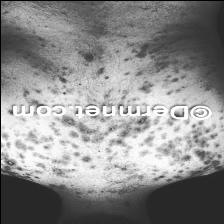Toxin: (0, 125, 36, 153), (78, 125, 110, 142), (190, 148, 218, 164)
